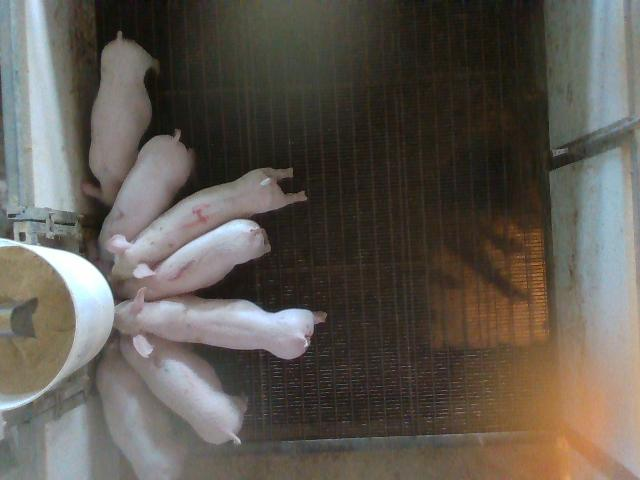pig-1: (114, 220, 271, 301)
pig-4: (110, 169, 304, 279)
